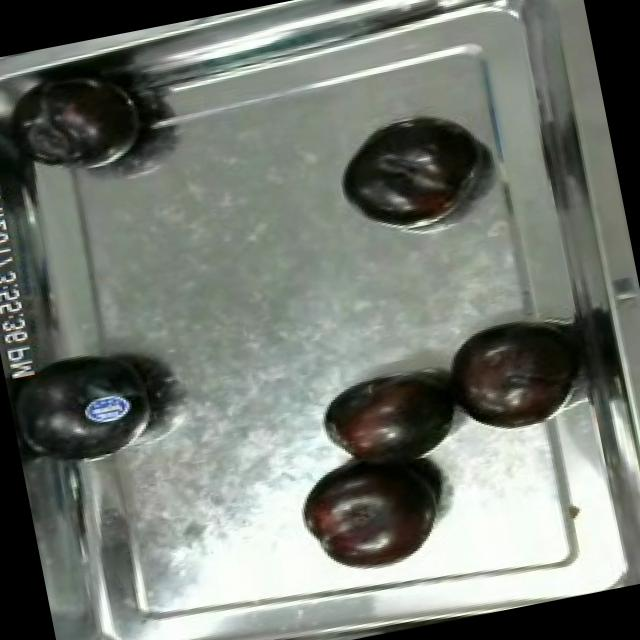Fruit: (1, 328, 173, 479), (288, 440, 460, 585), (326, 106, 488, 241), (436, 305, 586, 440), (312, 356, 470, 479), (11, 70, 155, 185)
